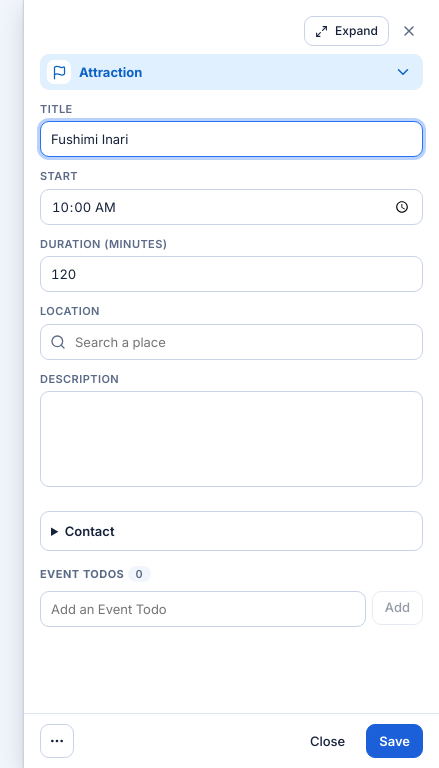
Event panel saves on Save › stays open with the error when the typed values are not valid
Clear the field labelled "Title" at (232,139), box x1=40 y1=121 x2=423 y2=157
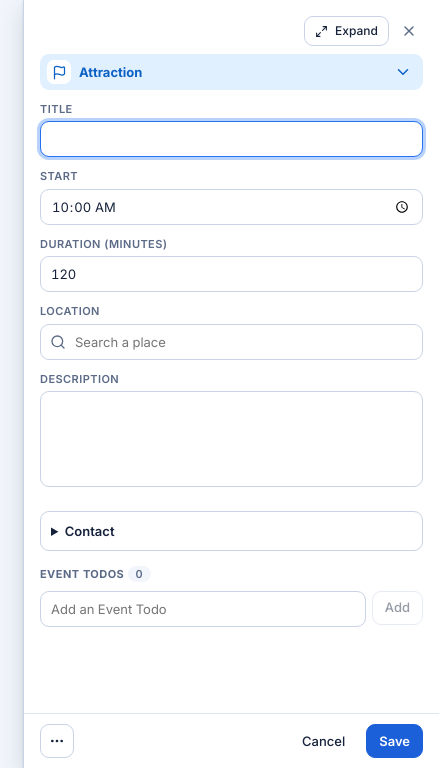
Click the button "Save".
click(395, 741)  # box x1=366 y1=724 x2=423 y2=758
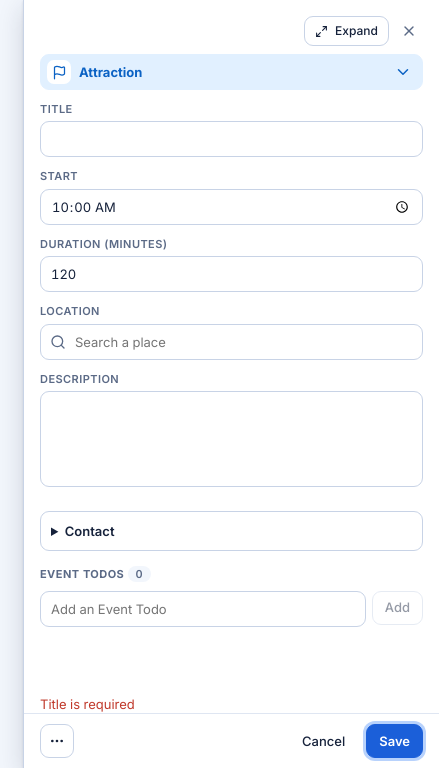
Expected: the message reads "Title is required", x1=40 y1=696 x2=135 y2=712
